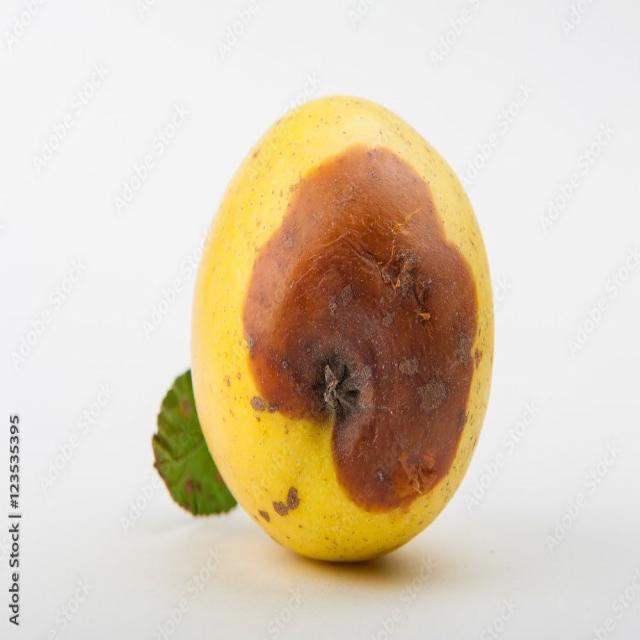Rotten: (200, 112, 497, 578)
